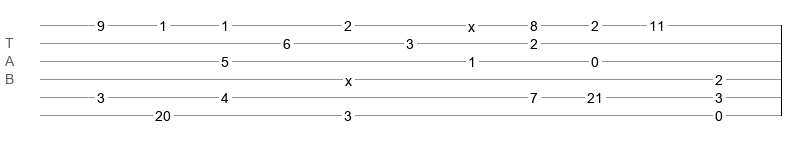0: (591, 54, 599, 64), (715, 108, 723, 118)
1: (159, 18, 167, 28), (221, 18, 229, 28), (468, 54, 476, 64)
11: (649, 18, 665, 28)
2: (344, 18, 352, 28), (530, 36, 538, 46), (591, 18, 599, 28), (715, 72, 723, 82)
20: (155, 108, 171, 118)
21: (587, 90, 603, 100)
3: (97, 90, 105, 100), (344, 108, 352, 118), (406, 36, 414, 46), (715, 90, 723, 100)
4: (221, 90, 229, 100)
5: (221, 54, 229, 64)
6: (283, 36, 291, 46)
7: (530, 90, 538, 100)
8: (530, 18, 538, 28)
9: (97, 18, 105, 28)
x: (345, 73, 352, 81), (468, 19, 475, 27)
